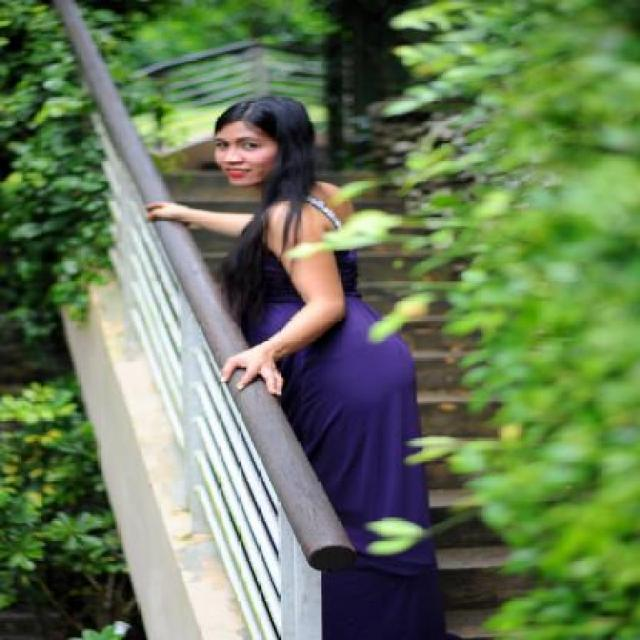stair: (164, 175, 550, 640)
